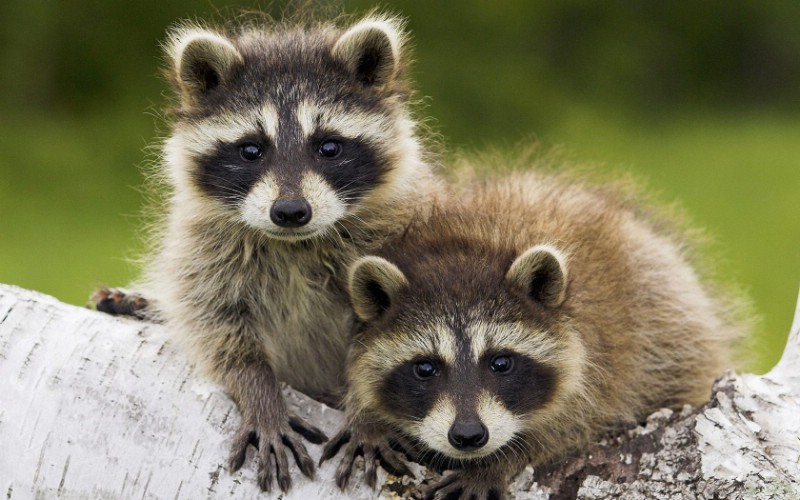raccoon: (129, 6, 428, 499), (332, 147, 750, 493)
